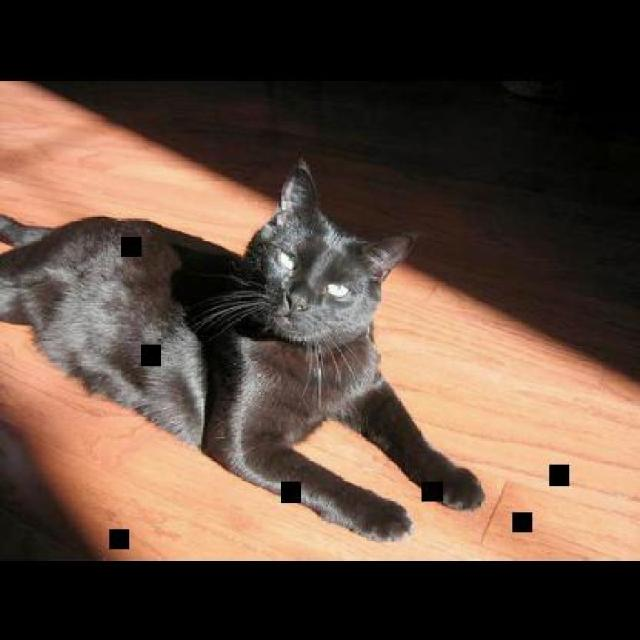unauthorized: (0, 155, 485, 543)
